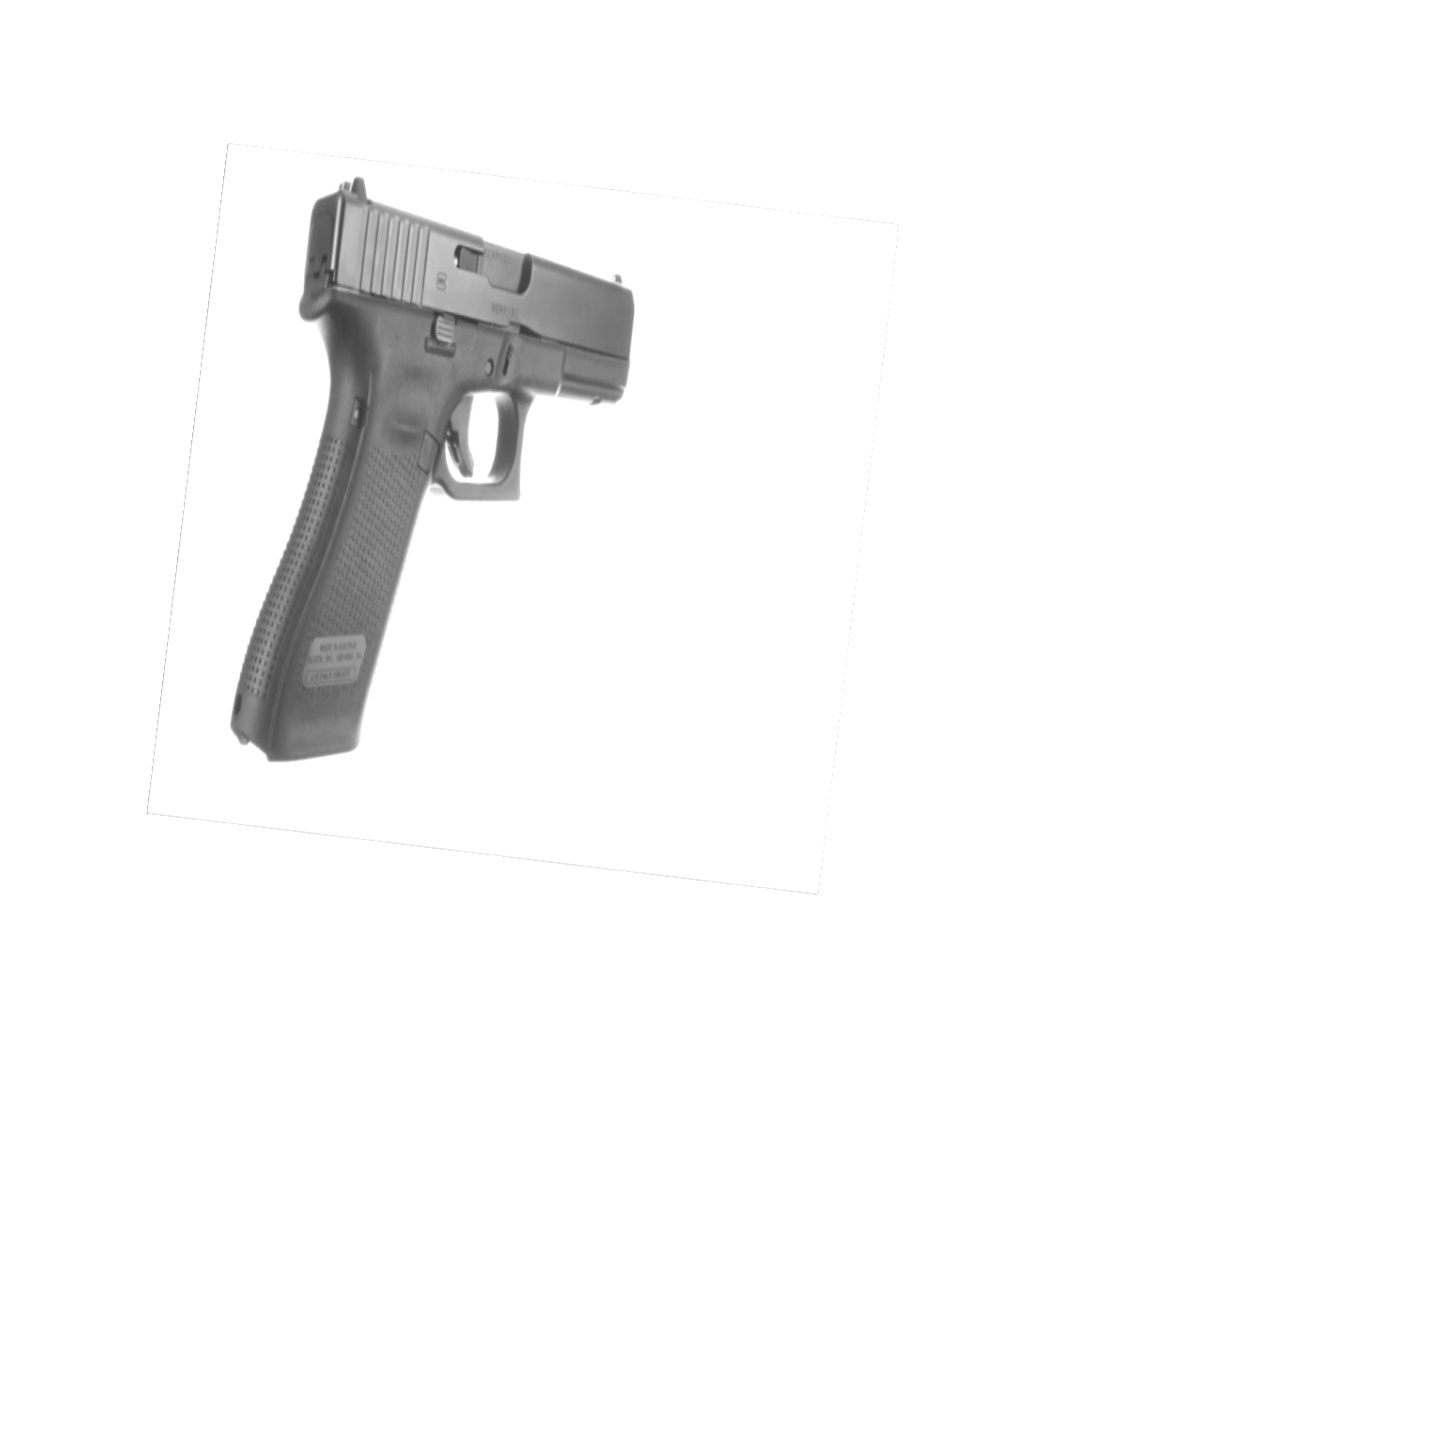gun: (226, 175, 637, 764)
